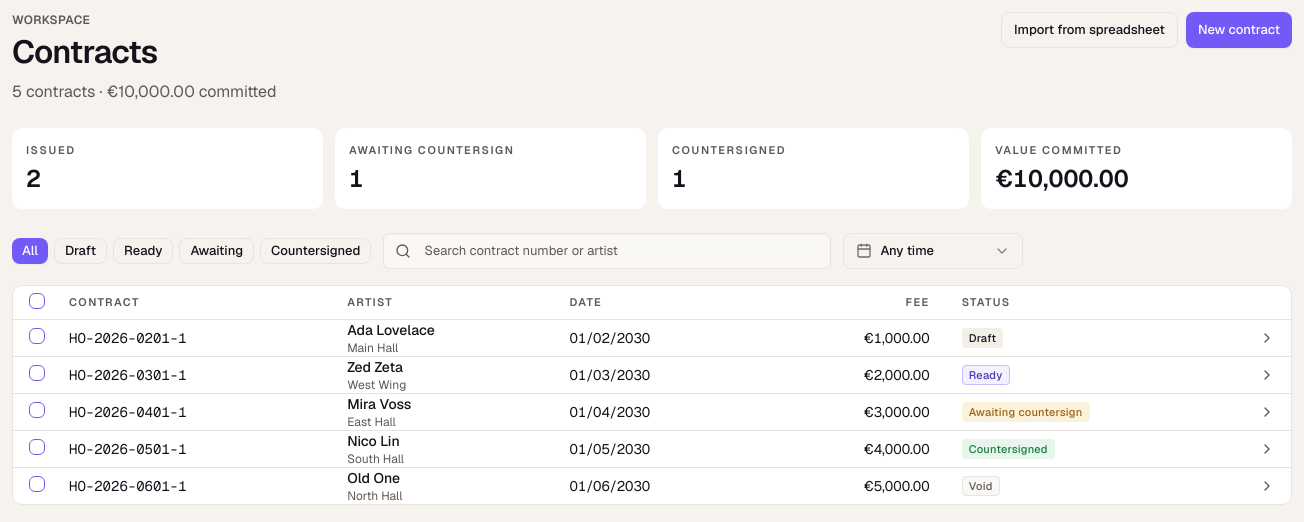
Test: HireOrdersPage › searches by artist name across the whole set
This screenshot has width=1304, height=522.
Expected: the text "HO-2026-0201-1" is shown, [69, 329, 187, 347]
Type "mira" into the field with placeholder "Search contract number or artist".
click(607, 250); type("mira")  # box [383, 232, 831, 268]
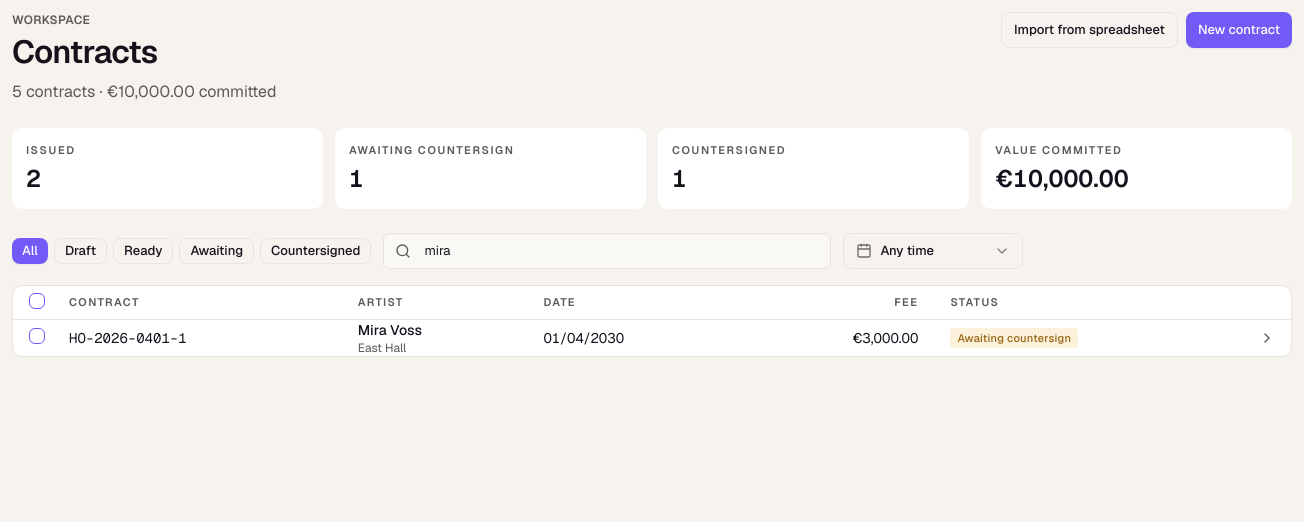
Expected: the text "HO-2026-0401-1" is shown, [69, 329, 187, 347]
Expected: the button "HO-2026-0201-1" is gone
